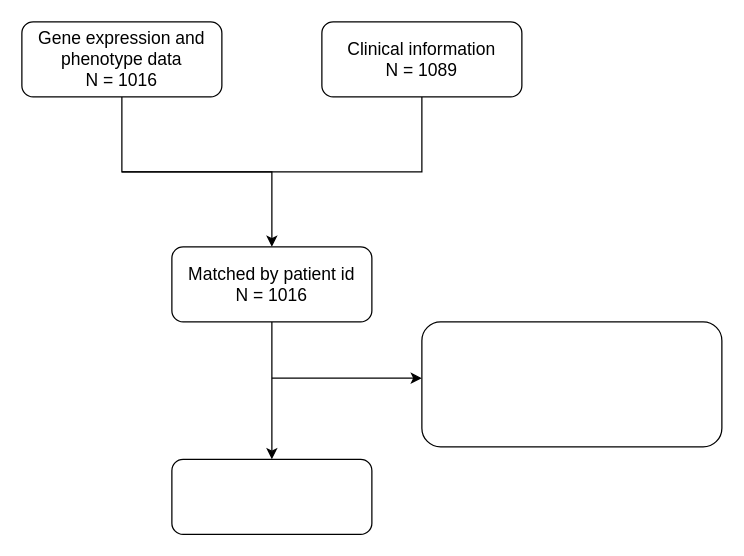
The diagram is 744 pixels wide and 556 high, and some of its shapes have lost their labels. Each missing label, with the box of its shape:
Excluded: Missing overall survival time (N = 15) Not eligible 1 (N = 5): (421, 321, 722, 447)
Working dataset N = 996: (171, 458, 372, 534)
